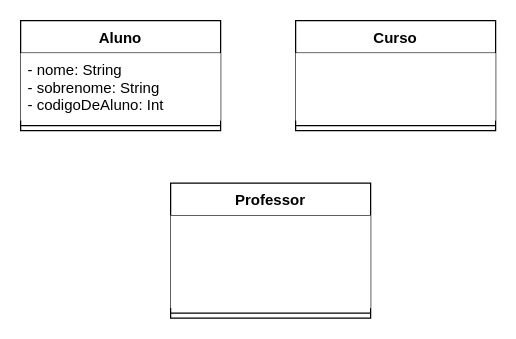
Some shapes in this 516 by 339 pixel diagram are drawn without their labels. The centre of each missing label's shape, as x and y in pixels:
"- nome: String - codigoDeCurso: Int" goes at point (395, 86).
"- nome: String - sobrenome: String - codigoDeProfessor: Int - tempoDeCasa: Int" goes at point (270, 261).
